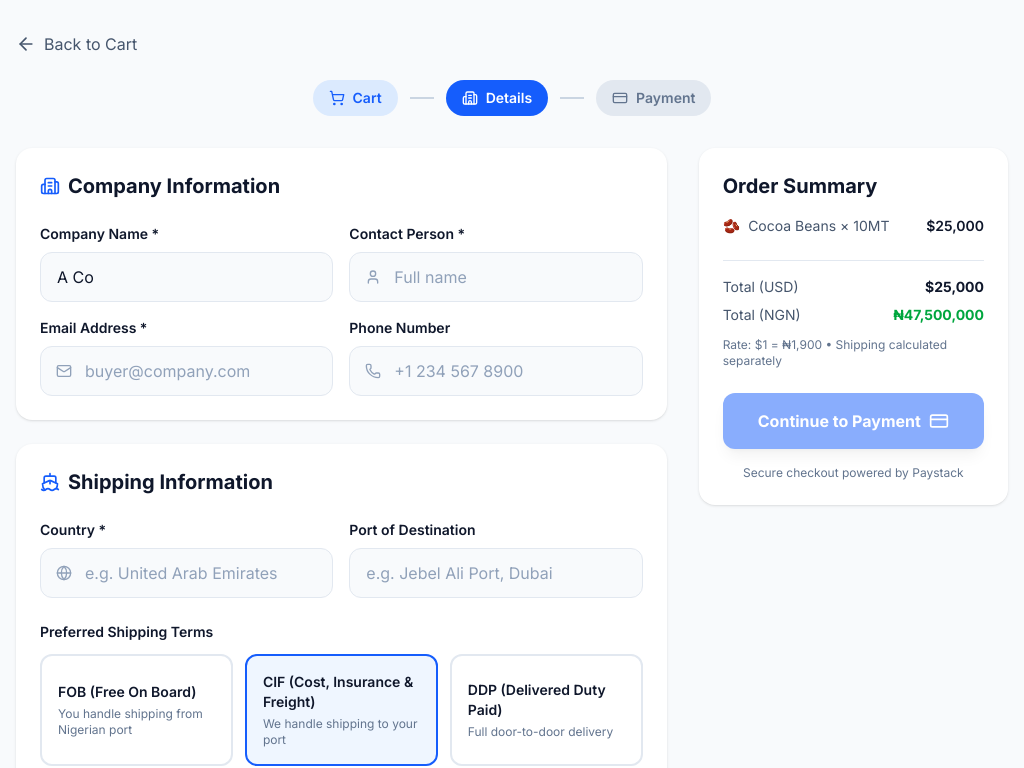
#577 — the screen quotes the rate the server charges at › AND EDITING THE BASKET DISCARDS THE QUOTE
Earlier steps of the test are not shown.
Type "A Person" into the field with placeholder "Full name".
click(496, 277); type("A Person")  # box [349,252,643,302]
Type "b@e.com" into the field with placeholder "buyer@company.com".
click(187, 371); type("b@e.com")  # box [40,346,333,396]
Type "Germany" into the field with placeholder "e.g. United Arab Emirates".
click(187, 573); type("Germany")  # box [40,548,333,598]
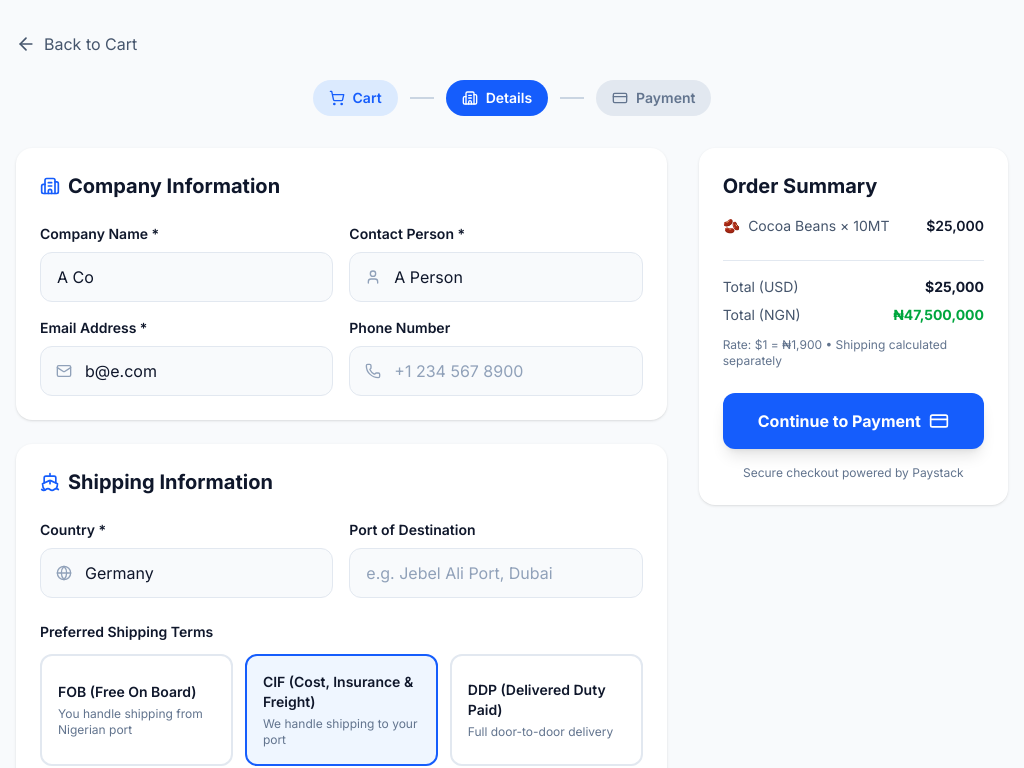
Click the button "Continue to Payment".
click(853, 421)  # box [723,393,984,449]
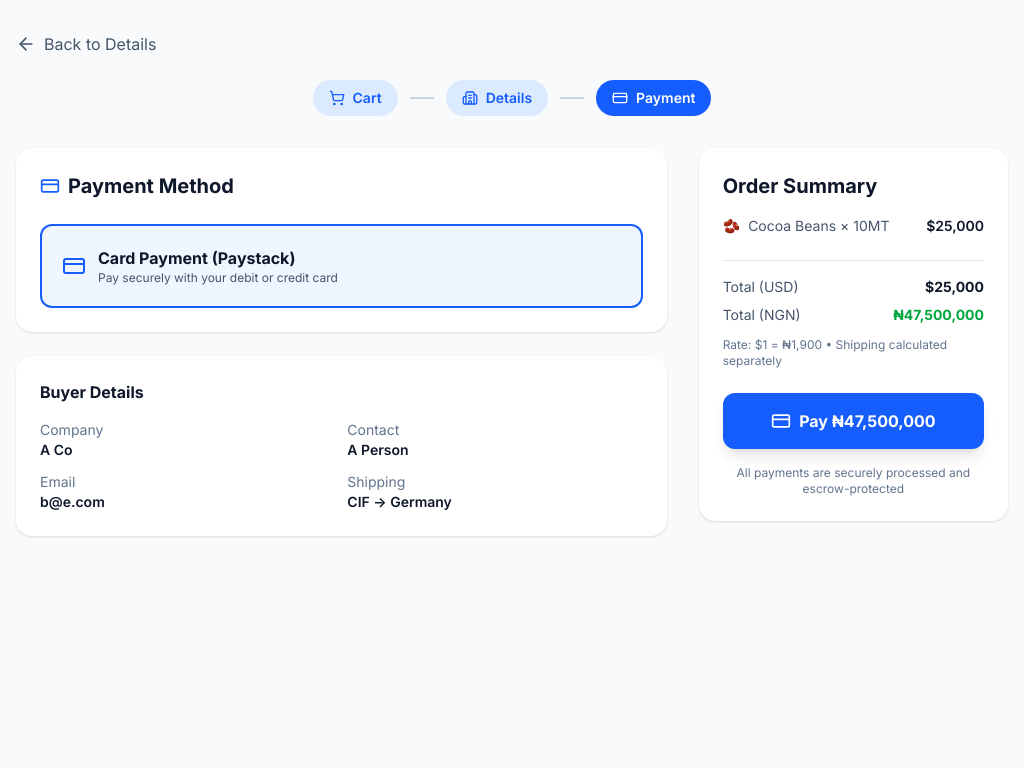
Click the button "Pay ₦47,500,000".
click(853, 421)  # box [723,393,984,449]
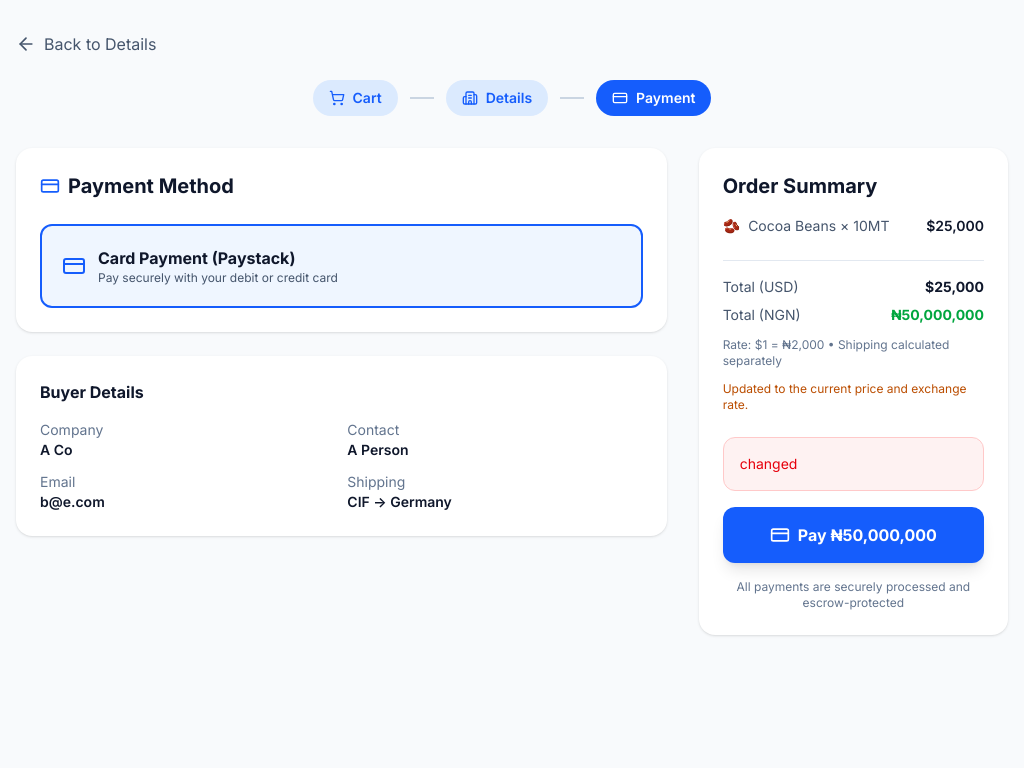
Expected: the text "₦50,000,000" is shown, [891,305,984,325]
Click the button "Back to Details".
click(86, 44)  # box [16,32,156,56]
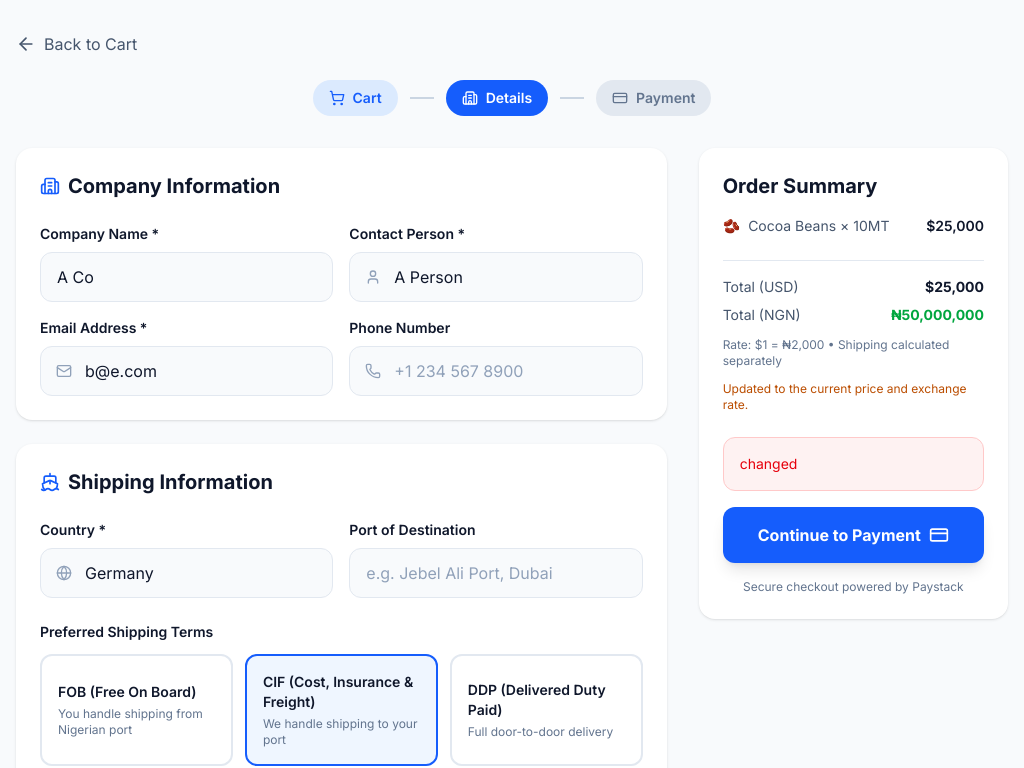
Click the button "Back to Cart".
click(77, 44)  # box [16,32,137,56]
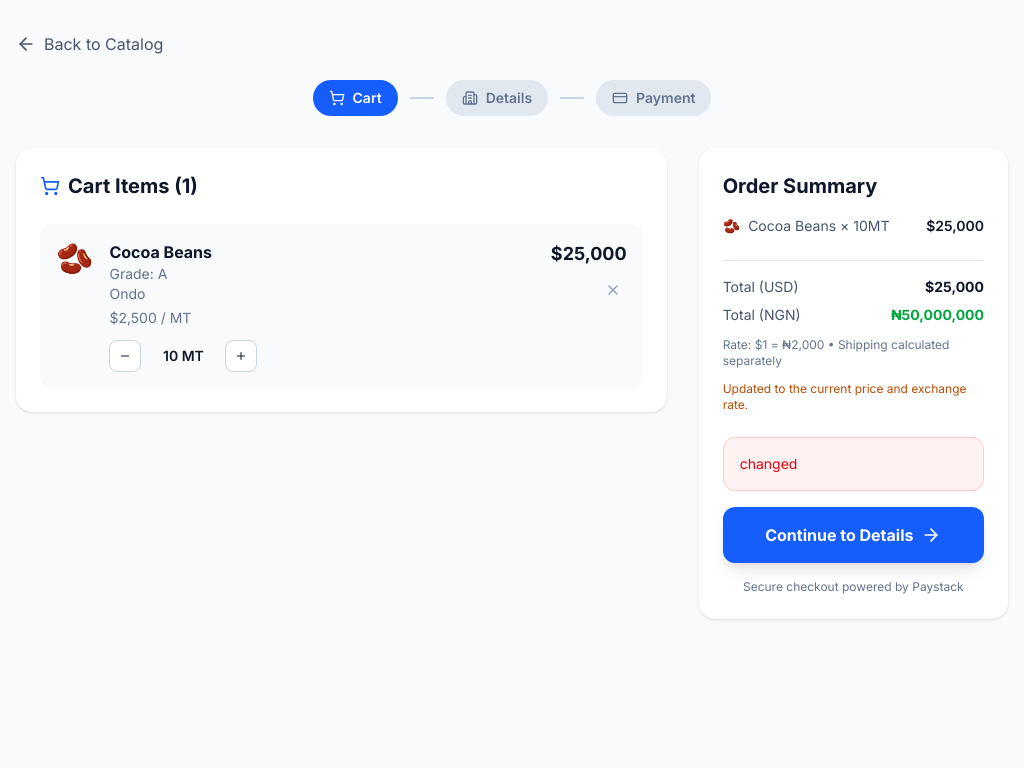
Click the 4th button.
click(241, 356)  # box [225,340,257,372]
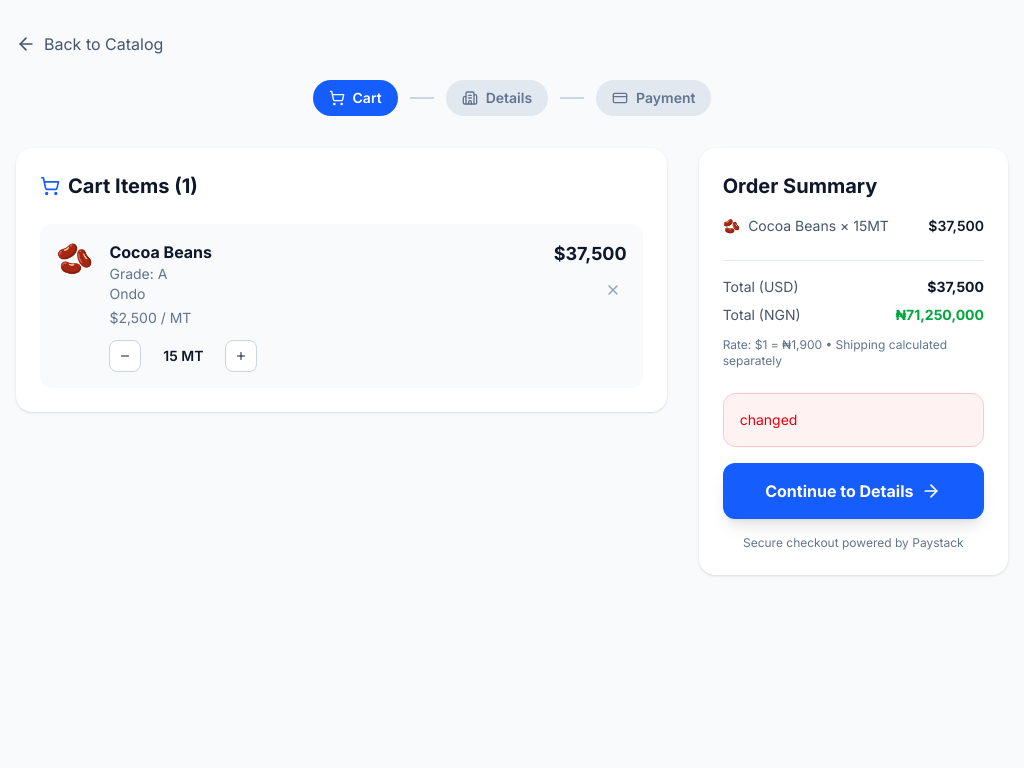
Expected: the text "₦71,250,000" is shown, [895,305,984,325]
Expected: the text "Rate: $1 = ₦1,900" is shown, [723,333,984,369]
